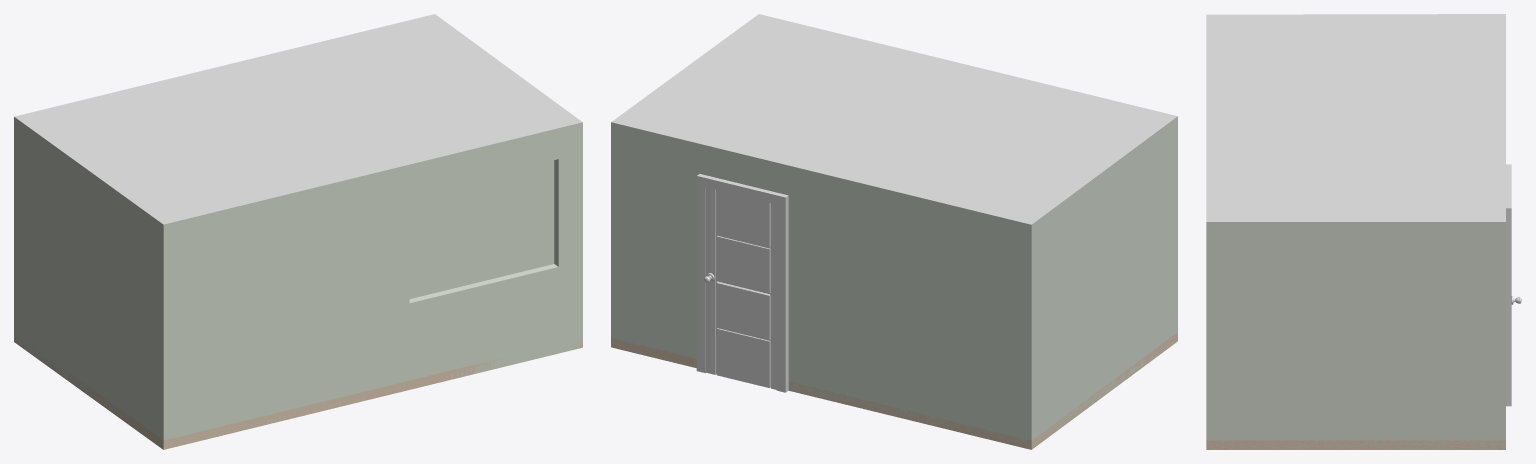
File: Bathroom.fbx
3 views of the same model, side by side, from view 1: azimuth 30°, elevation 25°; view 2: azimuth 150°, elevation 25°; view 3: azimuth 270°, elevation 25° (orthographic).
Parts seen in each view (by area): view 1: Room, Ceiling, Baseboard; view 2: Room, Ceiling, Door.001, Countertop1.001, Baseboard; view 3: Room, Ceiling, Baseboard, Countertop1.001.
Boxes of the visible parts, left/top/right/bottom form: Room: left=14, top=117, right=582, bottom=448; Ceiling: left=14, top=14, right=582, bottom=224; Baseboard: left=14, top=337, right=582, bottom=449; Room: left=611, top=116, right=1177, bottom=449; Ceiling: left=611, top=14, right=1177, bottom=224; Door.001: left=704, top=187, right=776, bottom=389; Countertop1.001: left=696, top=174, right=788, bottom=392; Baseboard: left=611, top=332, right=1177, bottom=449; Room: left=1206, top=222, right=1505, bottom=449; Ceiling: left=1206, top=14, right=1505, bottom=221; Baseboard: left=1206, top=440, right=1505, bottom=449; Countertop1.001: left=1506, top=164, right=1511, bottom=406.
Bounding box in the file's own units: 563 × 288 × 361.
